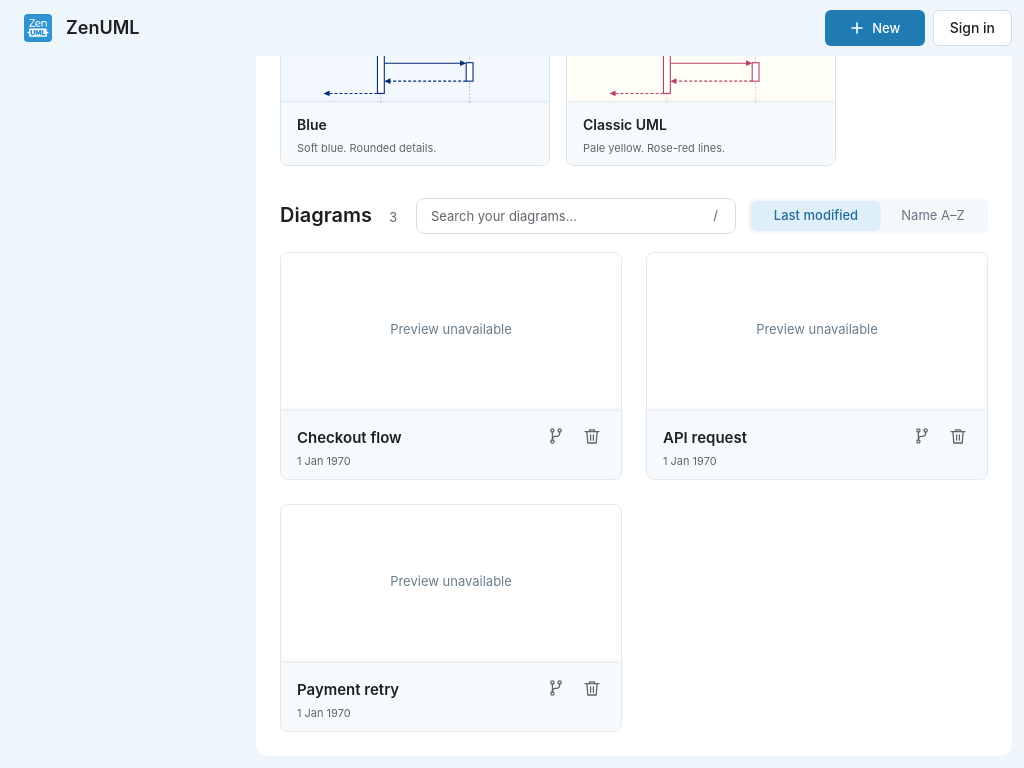
delete confirmation › shows the selected title, focuses Cancel, and Cancel does not delete or open
(page scrolled)
Step 1. Click the button named "Delete Payment retry" → point(592, 688), box [578,674,606,702]
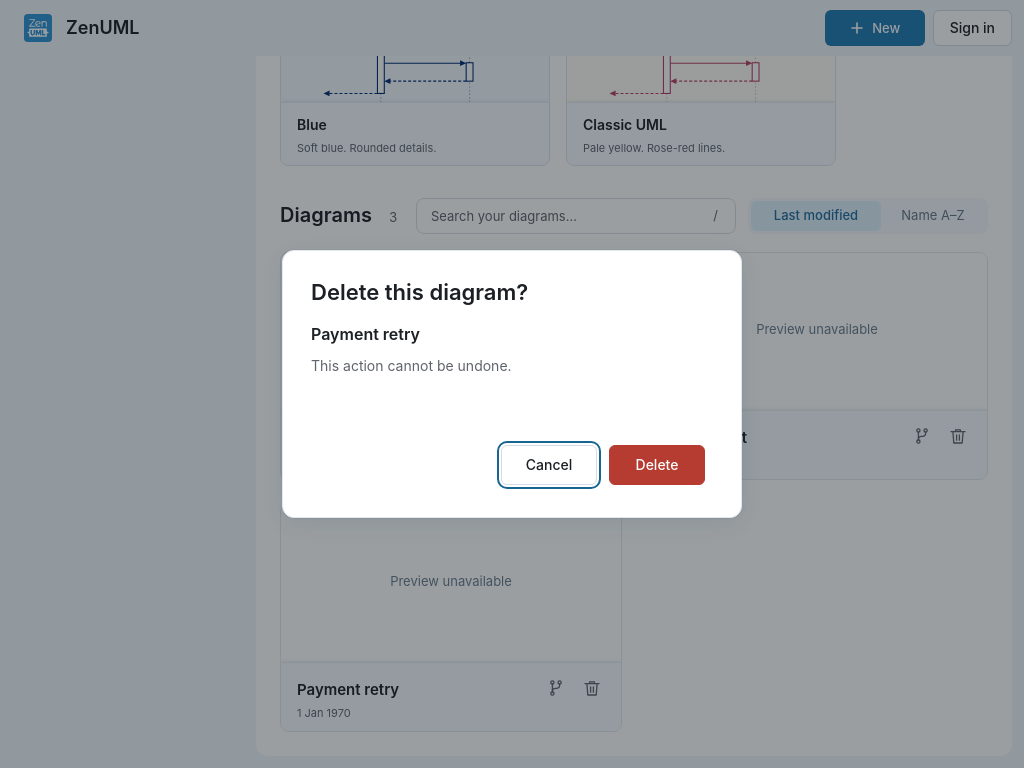
Check: the text with test id "home-delete-name" reads "Payment retry", box [311,324,420,344]
Check: the dialog "Delete this diagram?" shows "This action cannot be undone.", box [311,357,512,374]
Step 2. Click the button "Cancel" → point(549, 465), box [501,445,597,485]
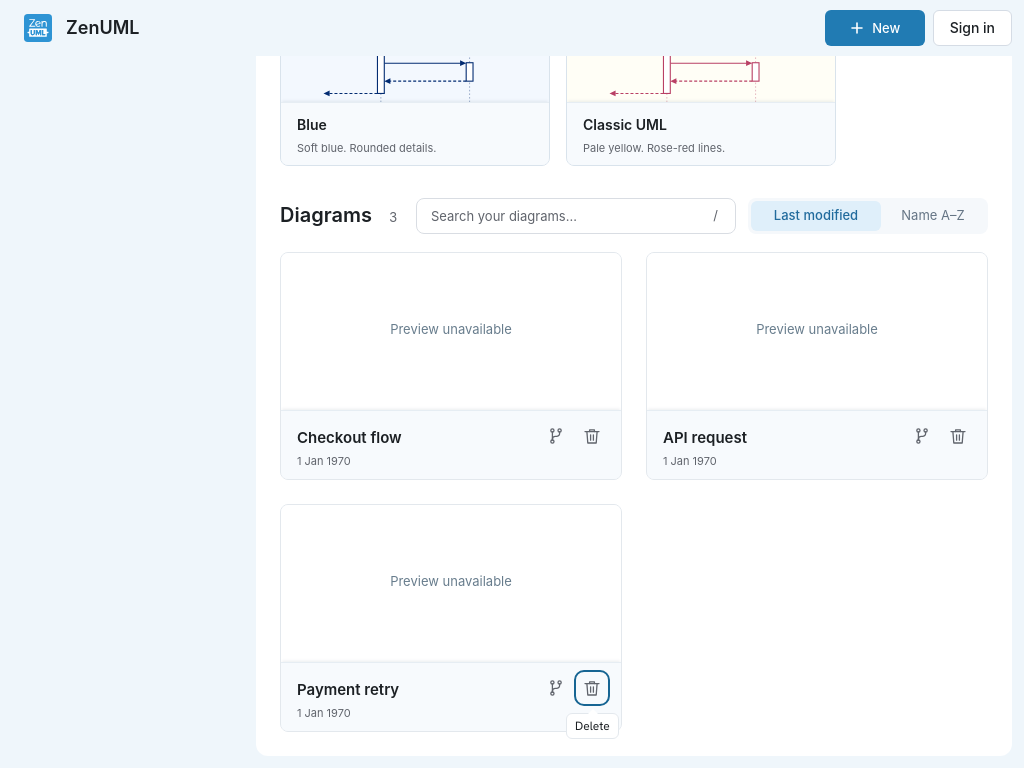
Check: the dialog is gone
